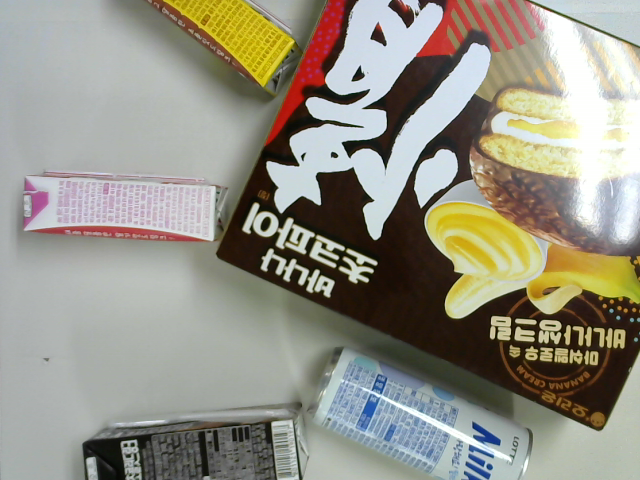Choco_E_Mong: (143, 1, 304, 97)
Choco_Pie_Banana: (217, 1, 639, 433)
Hush_Choco_Drink: (82, 403, 311, 480)
Milkies_250ml: (308, 347, 534, 480)
Strawberry_E_Mong: (23, 169, 228, 245)
